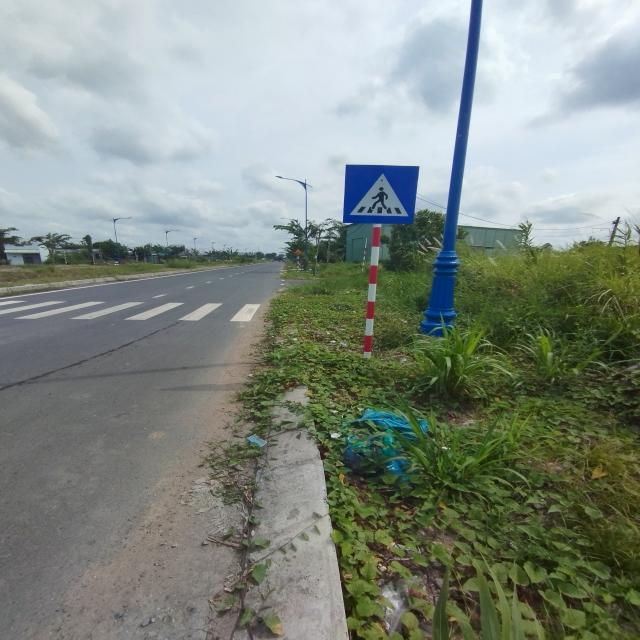Giao_Nhau_Duong_Uu_Tien: (343, 164, 420, 225)
